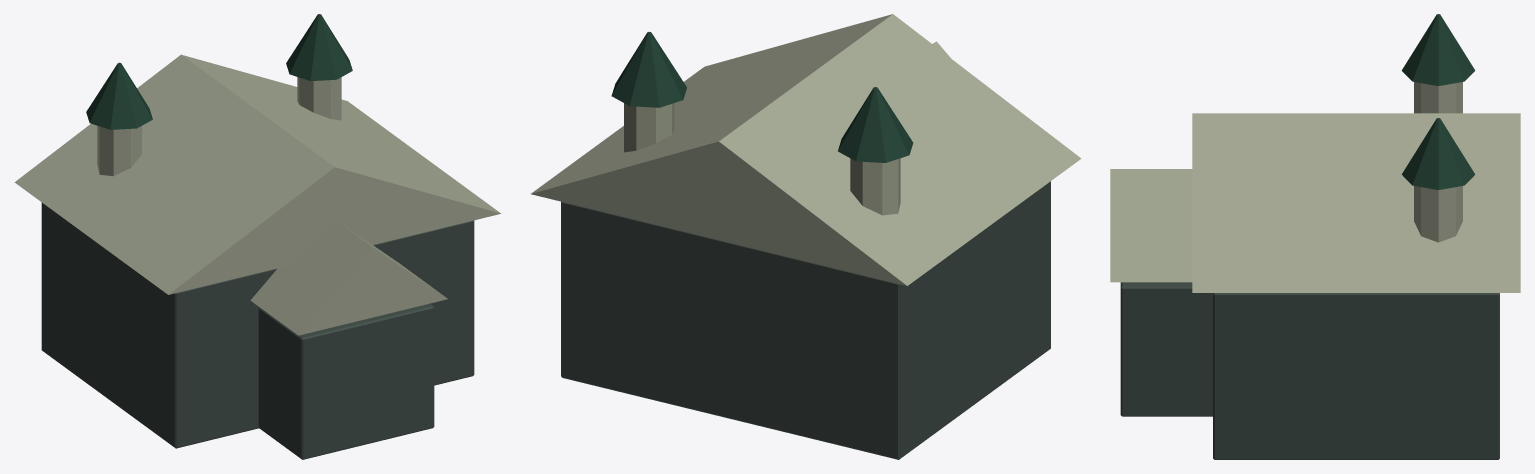
Rendered from LumenGraveboneMausoleumV2.glb.
3 renders of one model, left to right at view 1: azimuth 30°, elevation 25°; view 2: azimuth 150°, elevation 25°; view 3: azimuth 270°, elevation 25°, orthographic. The views are drawn at different scales.
Visible parts, largest first — view 1: LumenGraveboneMausoleumV2; view 2: LumenGraveboneMausoleumV2; view 3: LumenGraveboneMausoleumV2.
Boxes of the visible parts, left/top/right/bottom form: LumenGraveboneMausoleumV2: left=14, top=14, right=500, bottom=459; LumenGraveboneMausoleumV2: left=531, top=14, right=1081, bottom=459; LumenGraveboneMausoleumV2: left=1110, top=14, right=1520, bottom=459.
Bounding box in the file's own units: 20 × 17 × 20.
1 material, 1 textured.
